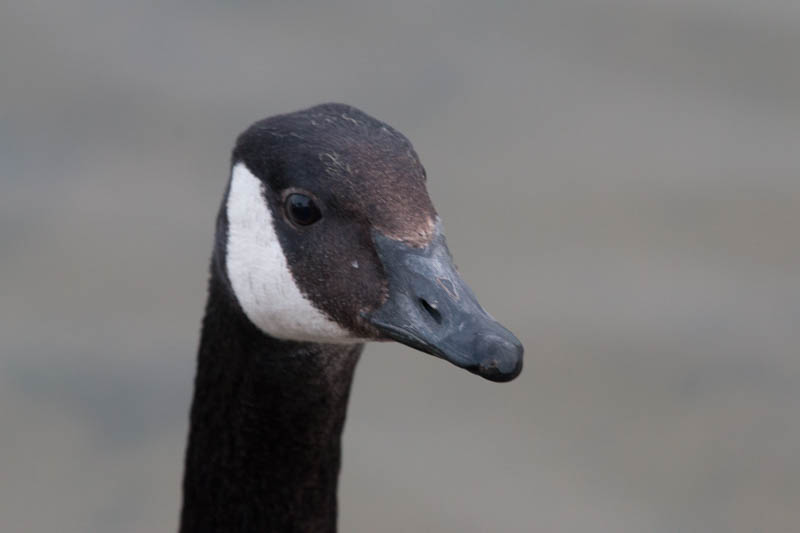goose-head: (213, 102, 522, 383)
